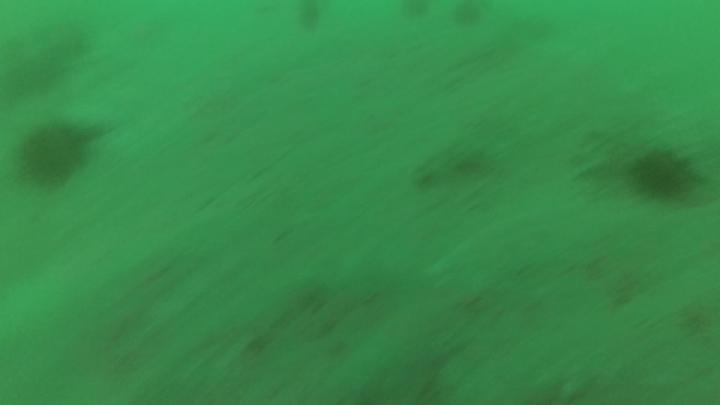echinus: (23, 119, 85, 192), (634, 143, 701, 203)
